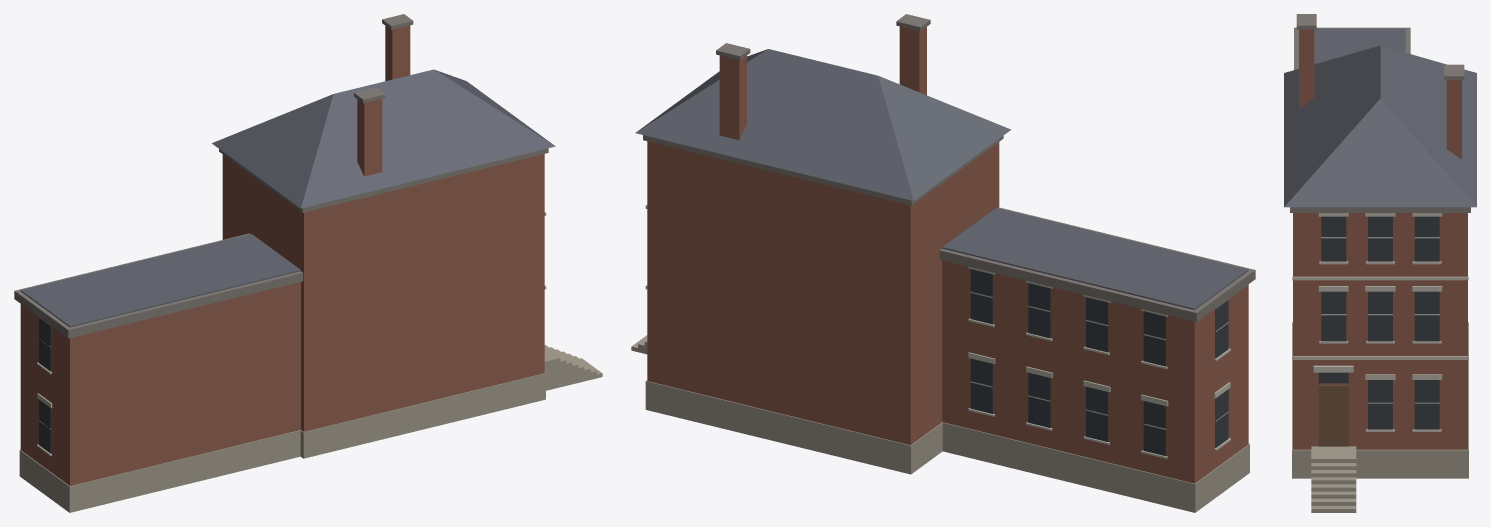
File: house_2021_indiana__draft_1904.glb
3 renders of one model, left to right at view 1: azimuth 30°, elevation 25°; view 2: azimuth 150°, elevation 25°; view 3: azimuth 270°, elevation 25°, orthographic. The views are drawn at different scales.
Parts seen in each view (by area): view 1: house_2021_indiana__draft_1904; view 2: house_2021_indiana__draft_1904; view 3: house_2021_indiana__draft_1904.
Boxes of the visible parts, x1,y1,x2,y2 form: house_2021_indiana__draft_1904: (14, 14, 602, 512); house_2021_indiana__draft_1904: (631, 14, 1255, 512); house_2021_indiana__draft_1904: (1284, 14, 1476, 512).
Size of the model in its own units: 27 by 16.29 by 7.7.
